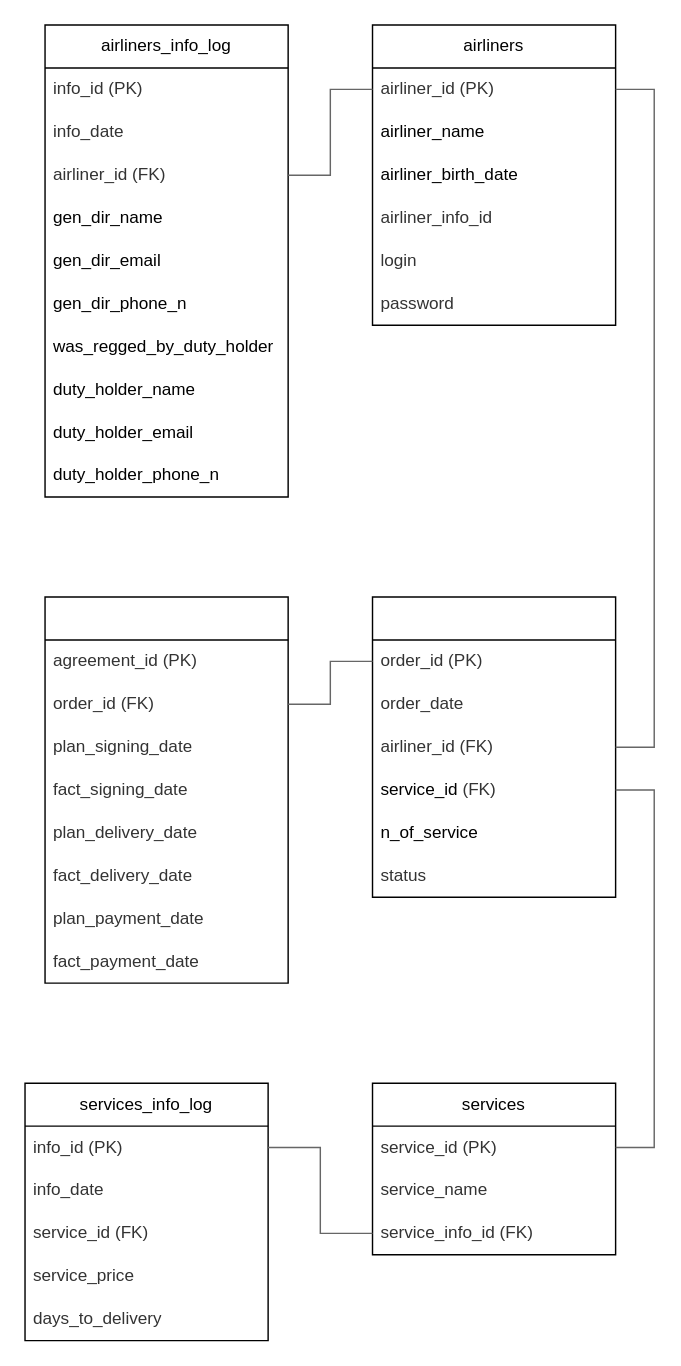
The diagram is 681 pixels wide and 1366 high, and some of its shapes have lost their labels. Each missing label, with the box of its shape:
agreements: (44, 596, 288, 983)
orders: (371, 596, 616, 897)
